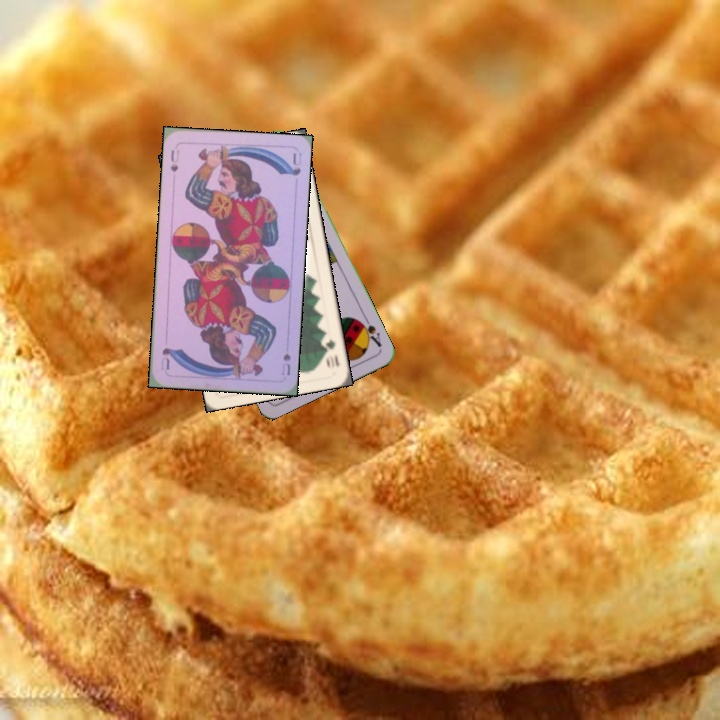G10: (320, 335, 342, 370)
SA: (355, 313, 384, 350)
SU: (277, 349, 293, 378), (167, 146, 182, 174)
